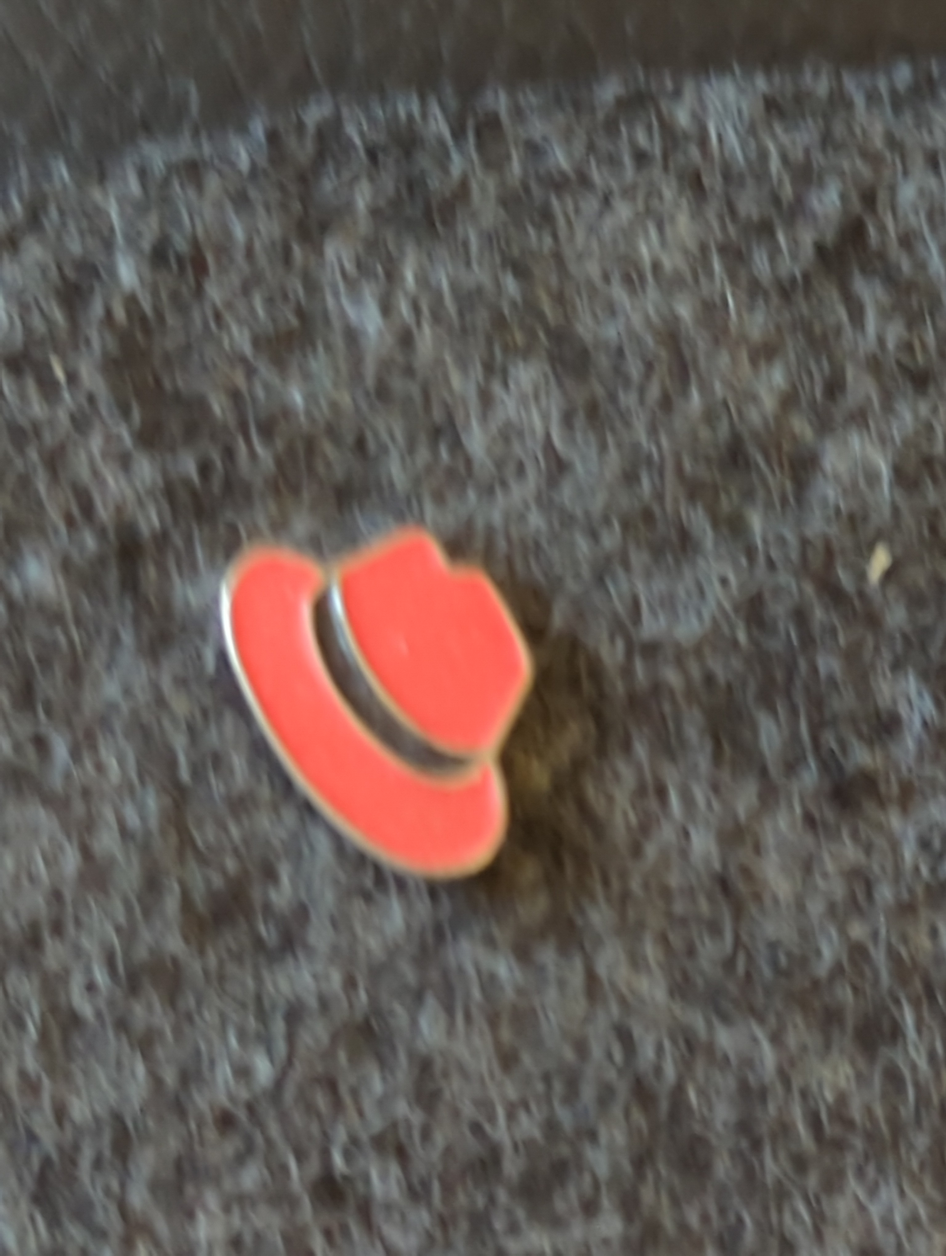Red-Hat: (125, 414, 608, 1013)
